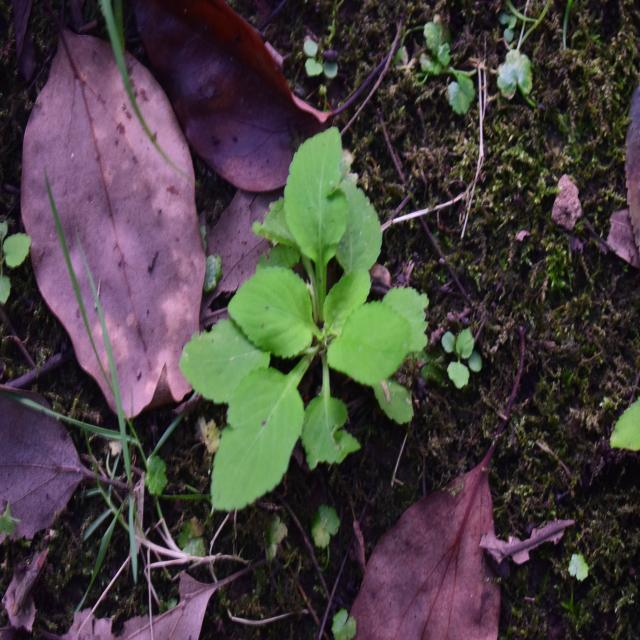Viola: (199, 130, 426, 493)
